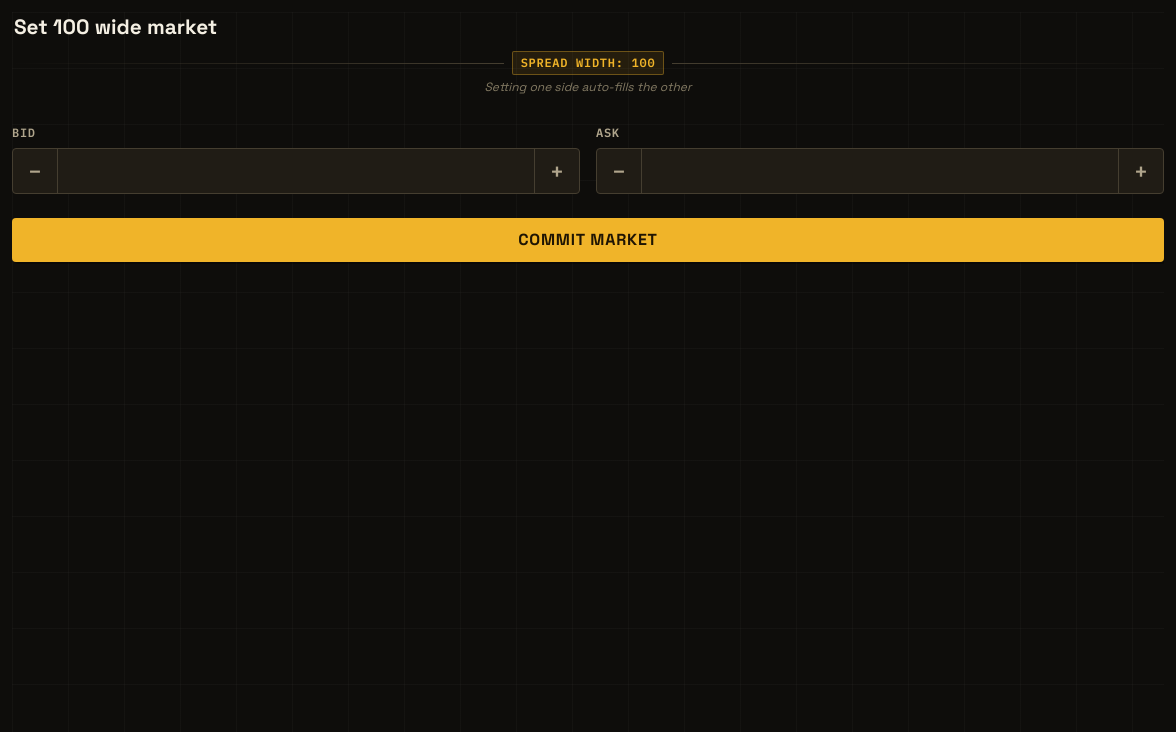
Test: MarketRangeForm › T24: typing Bid auto-fills Ask using spreadWidth
Type "200" into the number field labelled "Bid" at (296, 171), box [57,149,535,193]
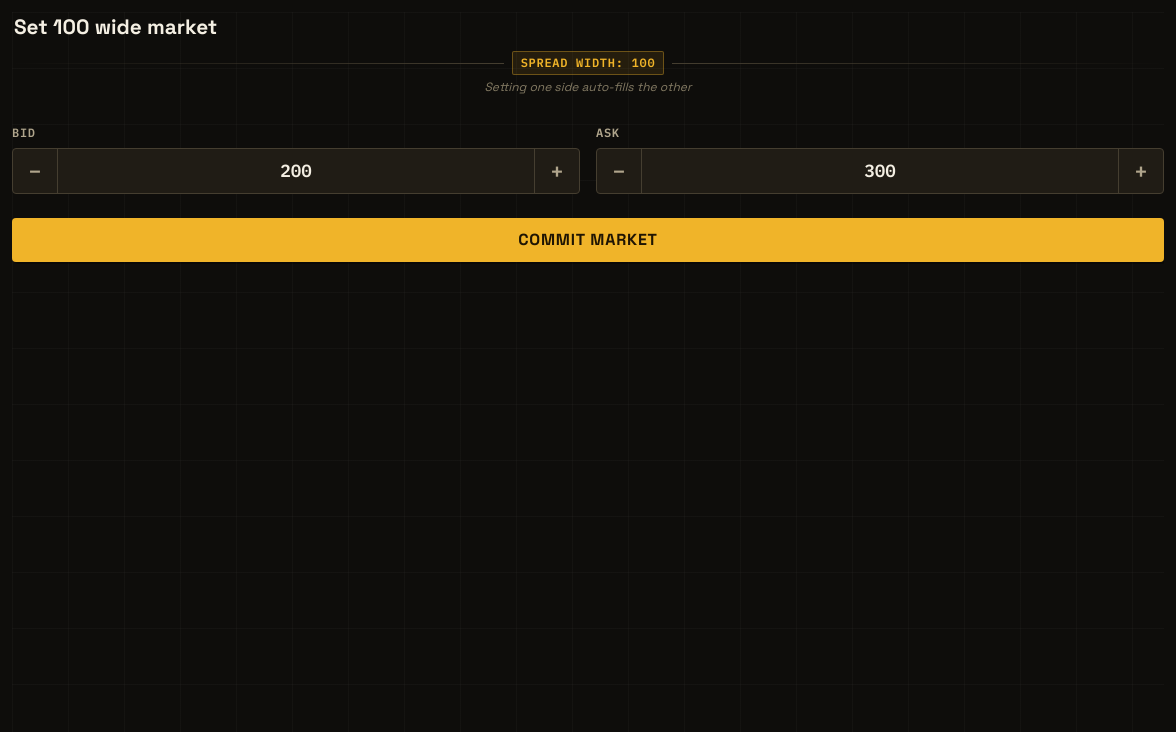
expect the number field labelled "Ask" holds "300": met, box [641,149,1119,193]
